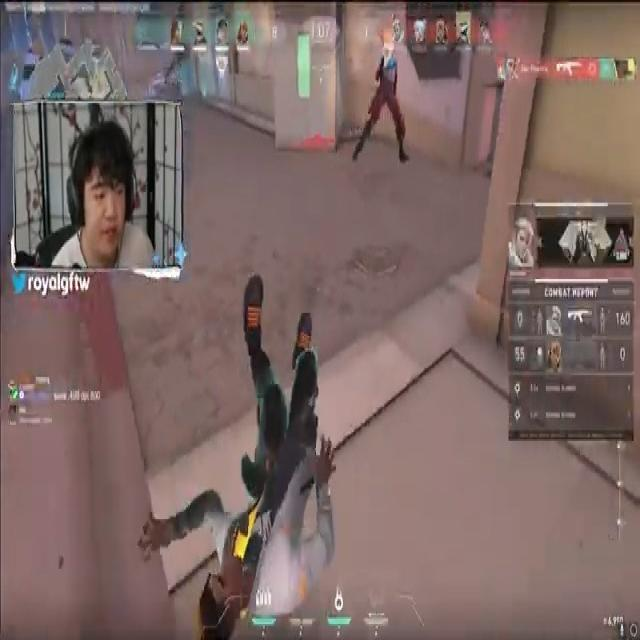enemy: (352, 47, 406, 161)
